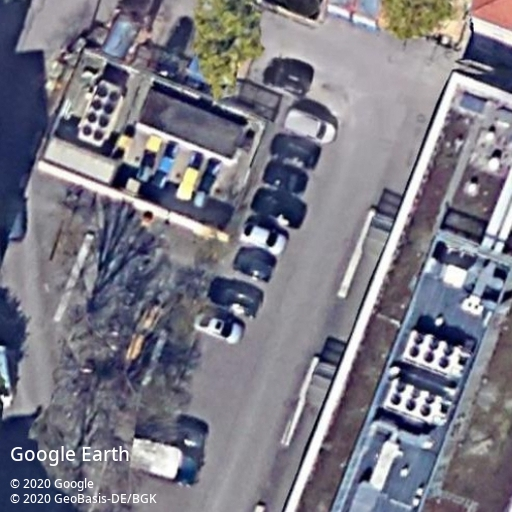Chiller: (77, 80, 123, 147), (402, 330, 464, 375), (382, 379, 443, 424)
